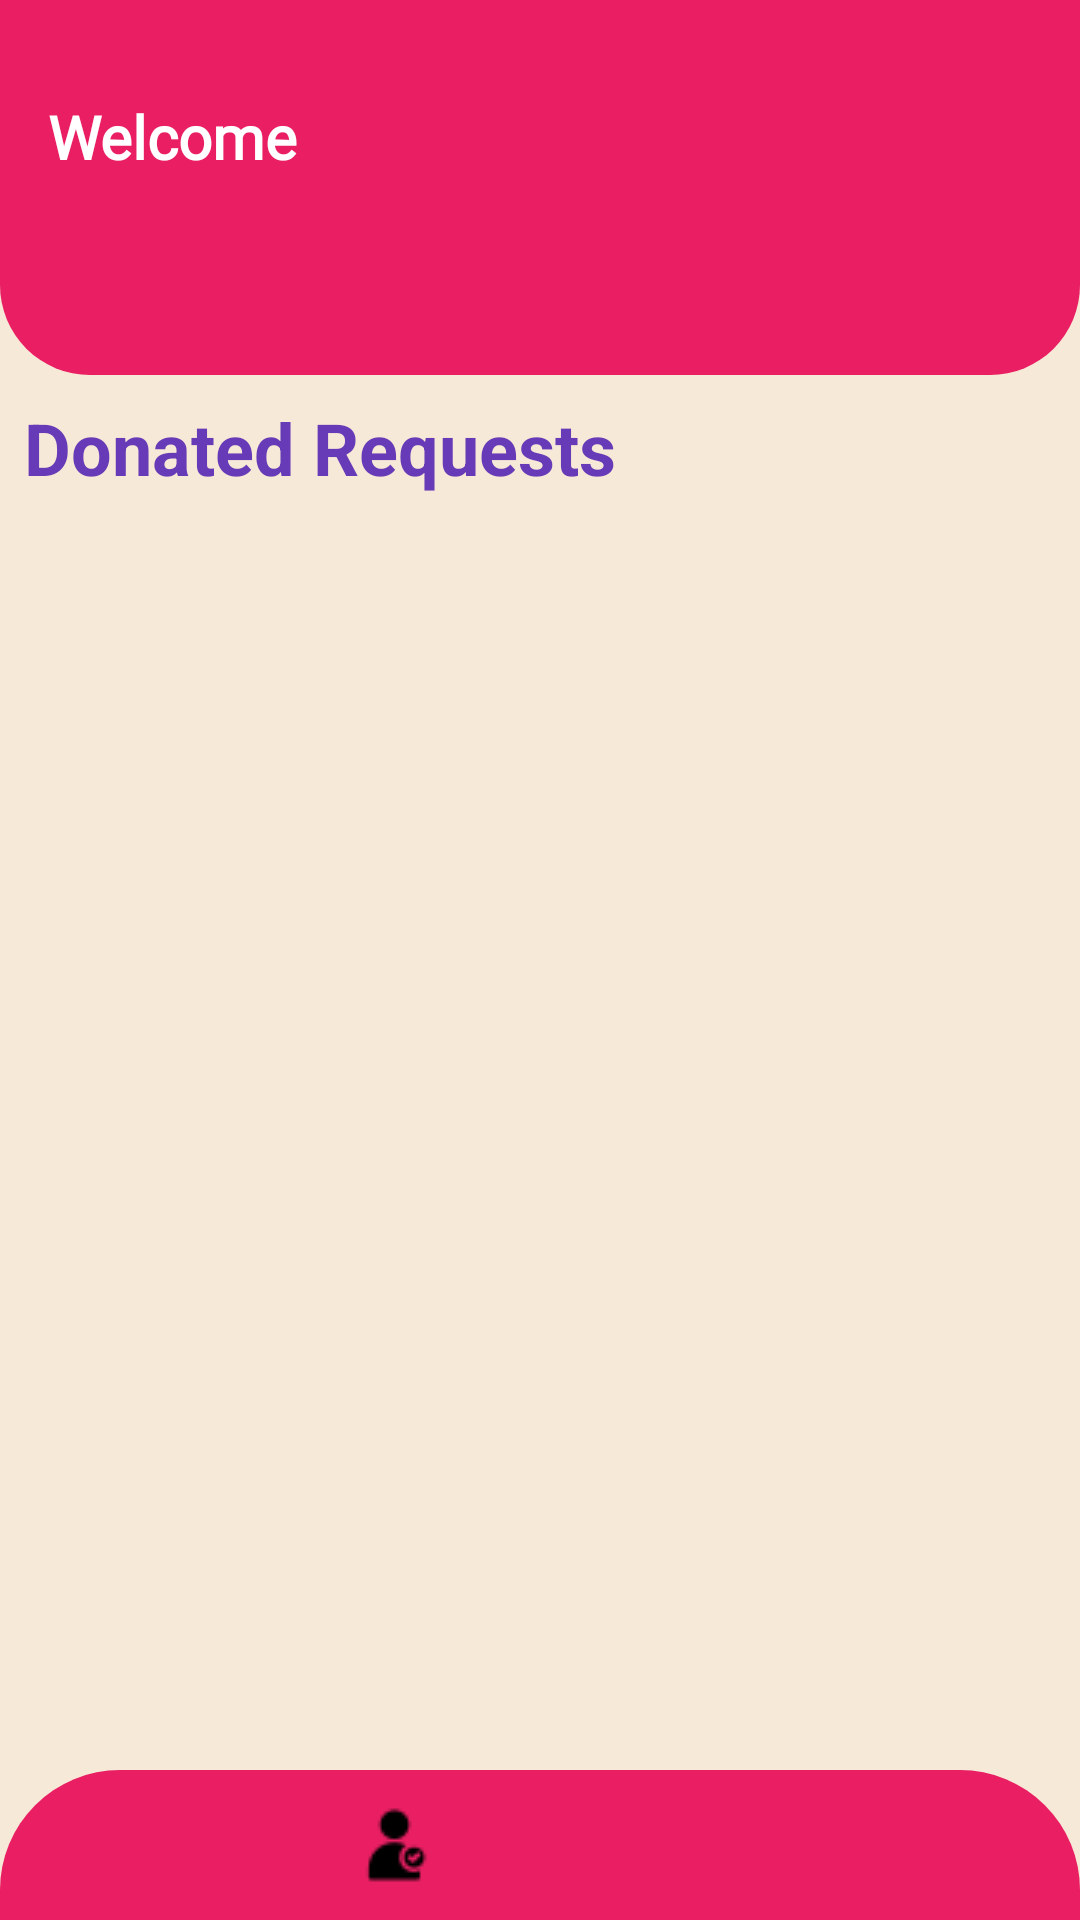

Where icons sit on this 1080 x 1920 app screen, as detection(x1, y1, x2, y2):
account: detection(367, 1808, 427, 1882)
